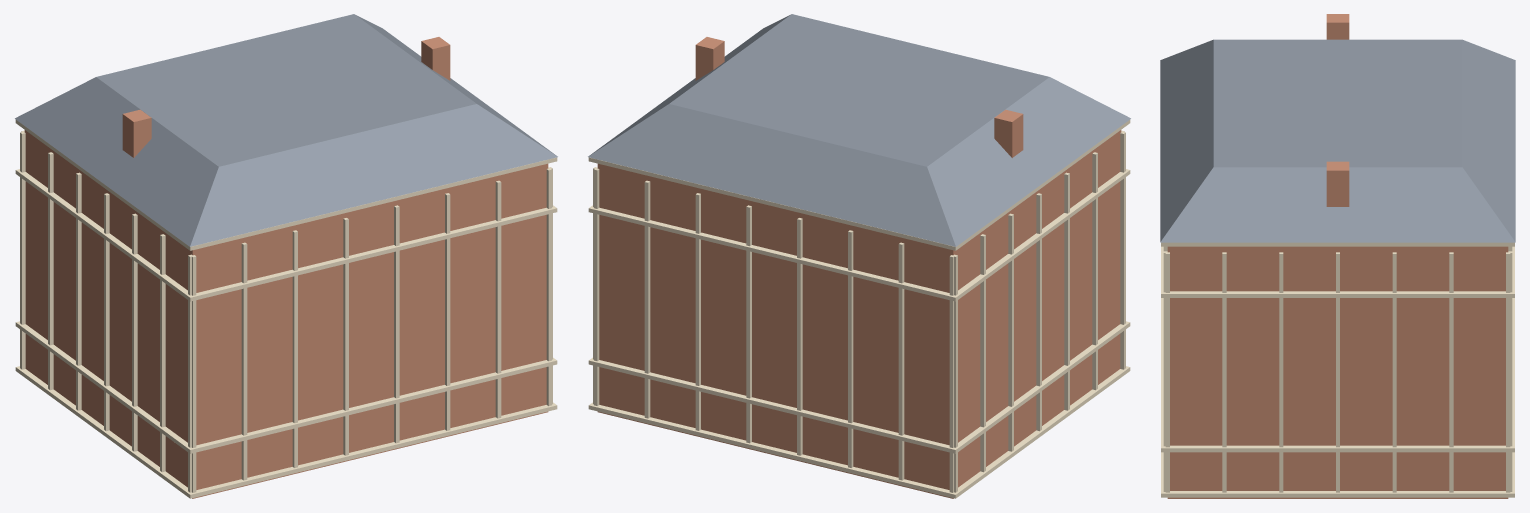
The model's file is heritage-4-lod0.glb.
The picture shows the model from 3 angles, left to right: view 1: azimuth 30°, elevation 25°; view 2: azimuth 150°, elevation 25°; view 3: azimuth 270°, elevation 25°; orthographic projection.
Visible parts, largest first — view 1: heritage-4_architecture; view 2: heritage-4_architecture; view 3: heritage-4_architecture.
Part boxes in pixels (x1,y1,x2,y2): heritage-4_architecture: (15,14,557,498); heritage-4_architecture: (588,14,1130,498); heritage-4_architecture: (1160,14,1515,498).
Size of the model in its own units: 22.8 by 18.6 by 18.8.
